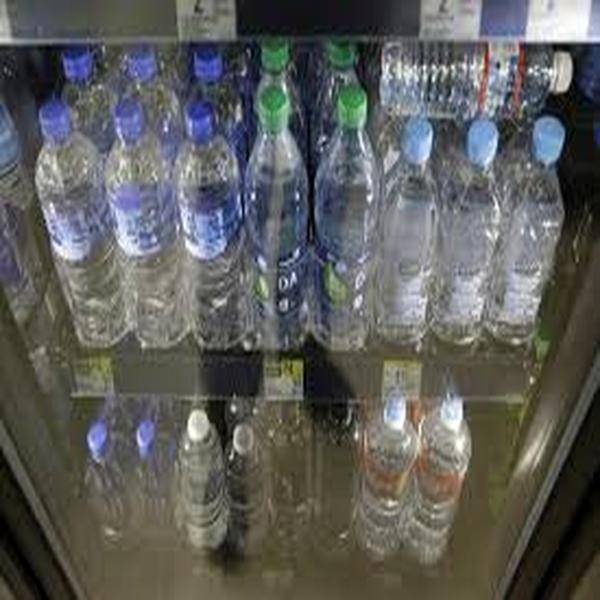tutuma: (27, 95, 113, 367), (171, 98, 244, 356), (384, 104, 439, 355), (509, 103, 563, 355), (358, 385, 420, 573), (165, 401, 231, 559)
